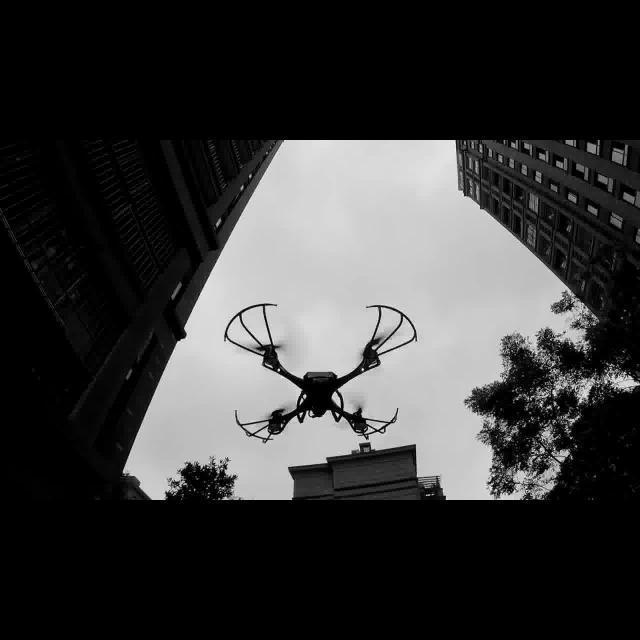Drons: (208, 298, 420, 452)
